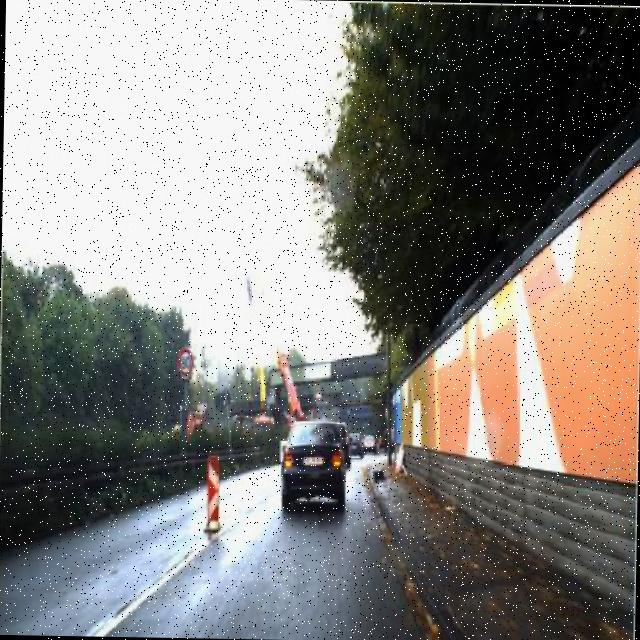Ograniczenie predkosci do 80: (174, 347, 196, 380)
